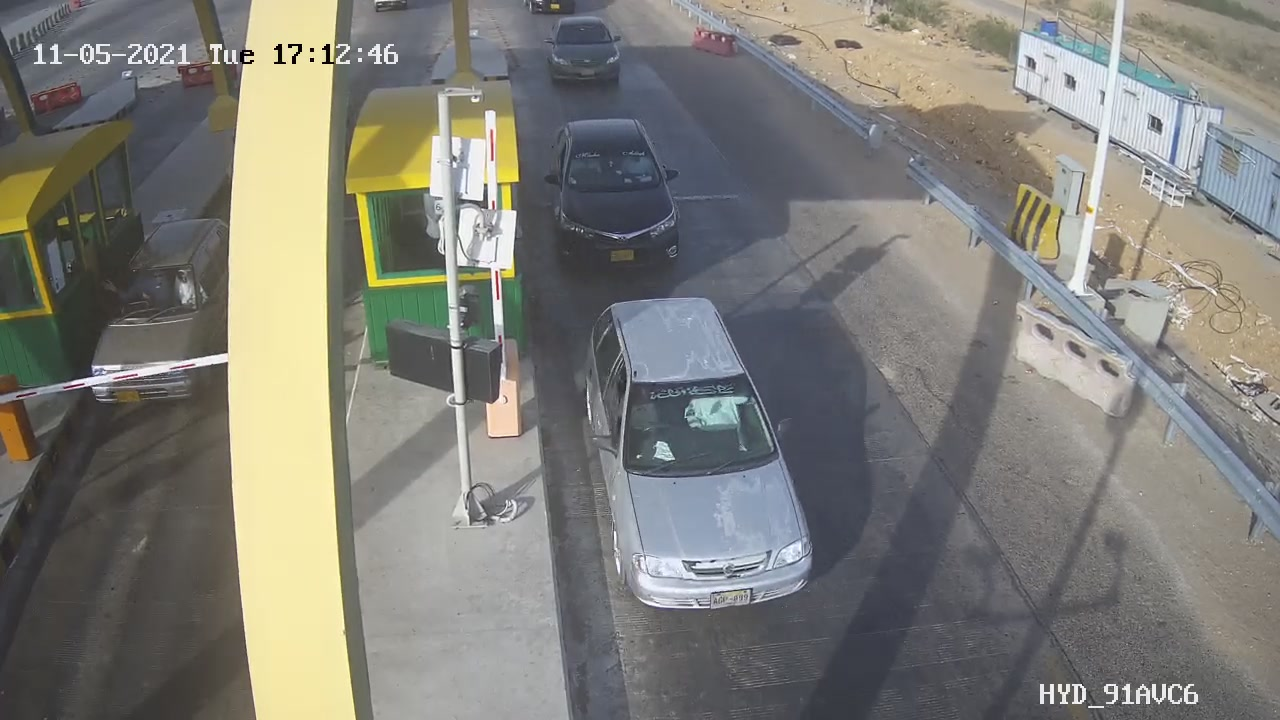F1: (526, 100, 707, 290)
